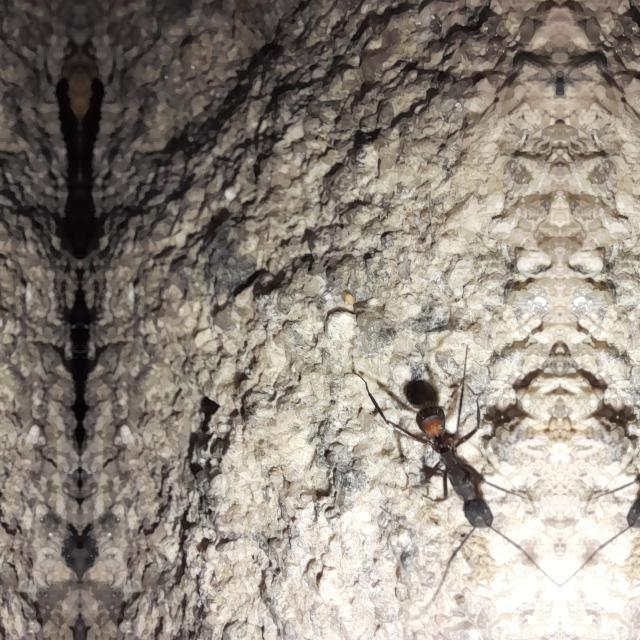Camponotus: (390, 370, 514, 560), (606, 370, 640, 558)
